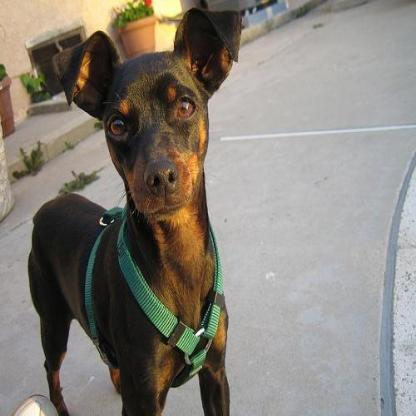miniature_pinscher: (28, 11, 242, 414)
